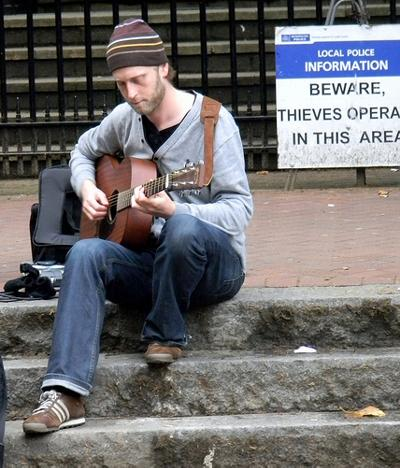person: (22, 19, 255, 437)
